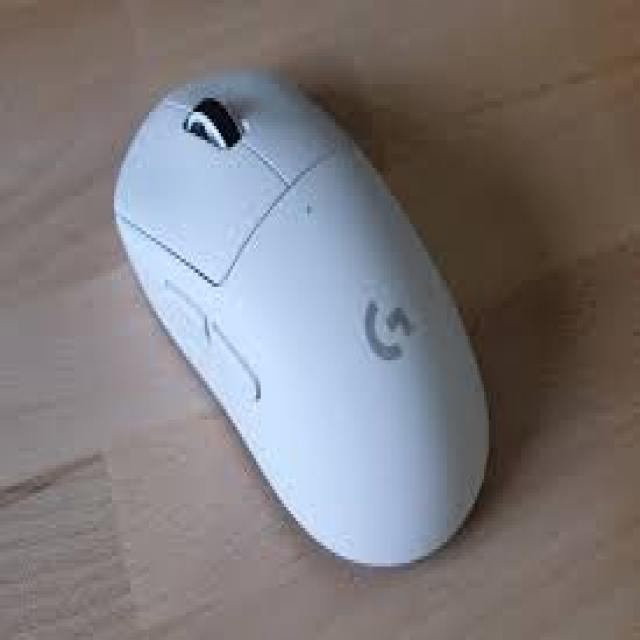mouse: (102, 68, 526, 596)
